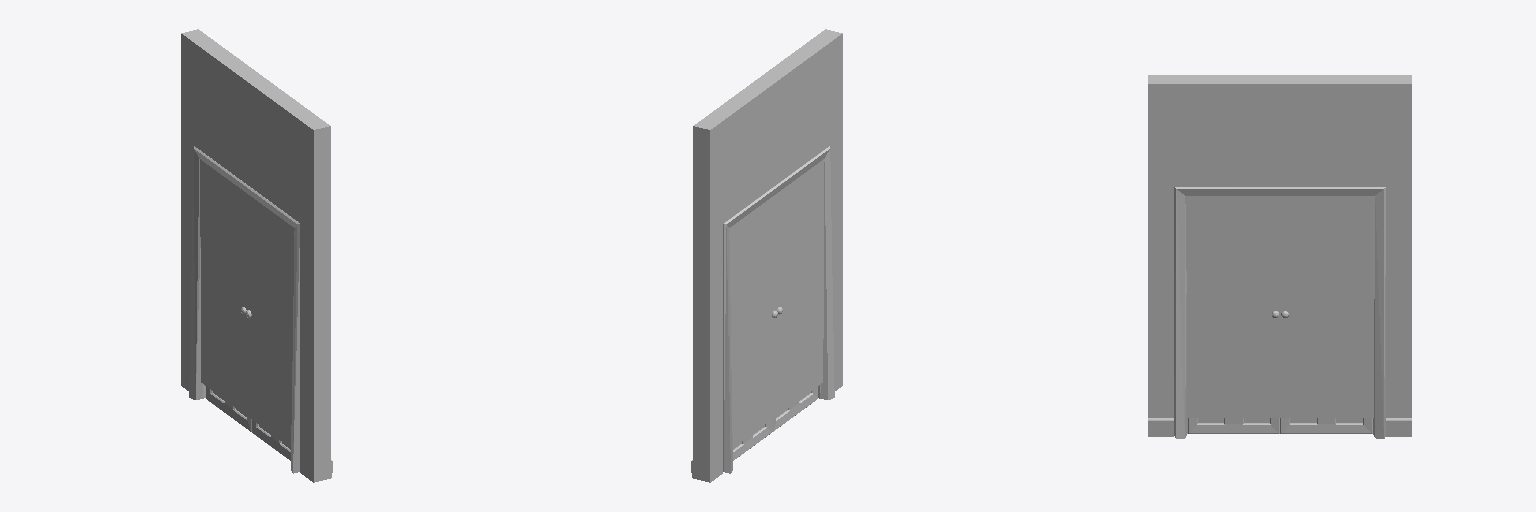
The model's file is uv_porta_2m.obj.
The picture shows the model from 3 angles: view 1: azimuth 30°, elevation 25°; view 2: azimuth 150°, elevation 25°; view 3: azimuth 270°, elevation 25°; orthographic projection.
Parts seen in each view (by area): view 1: pCube1104, pCube1104 pCube963, pCube1104 pCube962; view 2: pCube1104, pCube1104 pCube963, pCube1104 pCube961; view 3: pCube1104, pCube1104 pCube963, pCube1104 pCube962, pCube1104 pCube961.
Part boxes in pixels (x1,y1,x2,y2): pCube1104: (181, 29, 332, 482); pCube1104 pCube963: (189, 146, 299, 473); pCube1104 pCube962: (206, 386, 251, 431); pCube1104: (691, 29, 842, 482); pCube1104 pCube963: (723, 146, 834, 473); pCube1104 pCube961: (772, 386, 817, 431); pCube1104: (1148, 75, 1411, 436); pCube1104 pCube963: (1174, 187, 1385, 438); pCube1104 pCube962: (1280, 418, 1372, 433); pCube1104 pCube961: (1188, 418, 1279, 433).
Bounding box in the file's own units: 25.95 × 294 × 200.